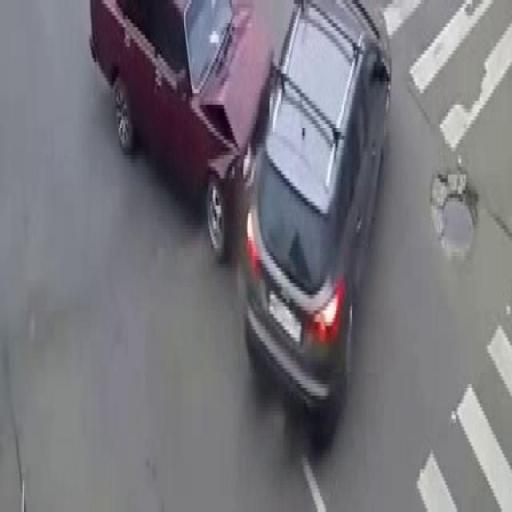小汽车撞小汽车: (85, 2, 389, 446)
